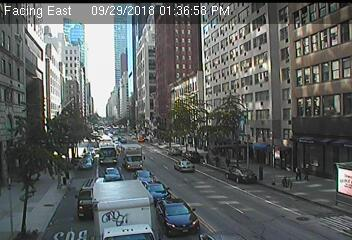car: (92, 182, 157, 240), (153, 198, 200, 238), (76, 178, 104, 218), (120, 144, 146, 171), (225, 167, 257, 185), (98, 141, 117, 167), (134, 170, 155, 185), (104, 167, 121, 184), (173, 160, 194, 173), (184, 151, 200, 164), (167, 147, 182, 157), (79, 159, 92, 170), (83, 153, 92, 163)
